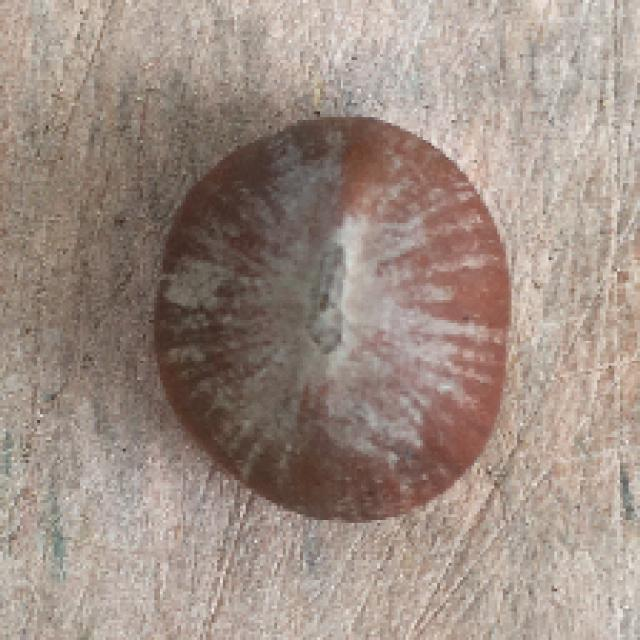damagedHazelnut: (143, 113, 507, 539)
